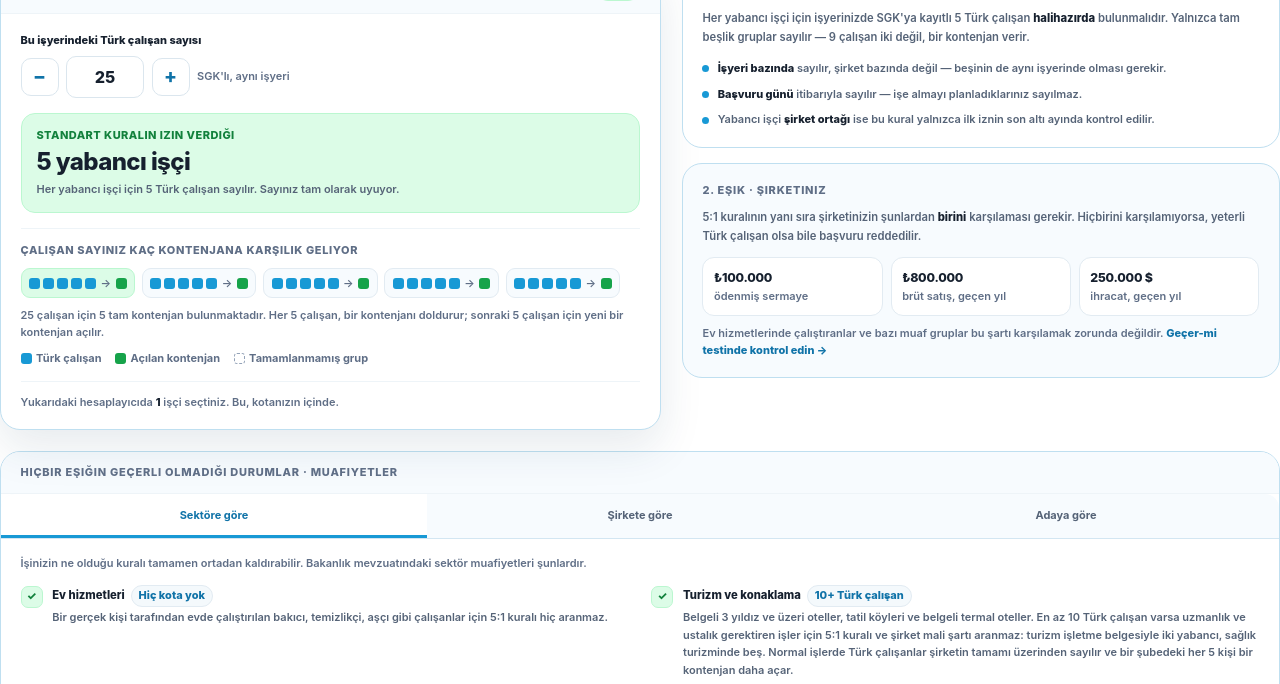
Test: the section bodies (real TR bundle; every island shows its server fallback) › Quota: both Gate 1 fallbacks at 25 staff (calc.558), the exemptions tabs with the sys badges
Check: the text with test id "quota-allowed" reads "5 yabancı işçi", box [36,147,190,176]
Check: the text with test id "quota-viz-note" shows "25 çalışan için 5 tam kontenjan bulunmaktadır. Her 5 çalışan, bir kontenjanı doldurur; sonraki 5 çalışan için yeni bir kontenjan açılır.", box [20,308,624,339]
What coordinates should you click on to do the following:
click the tab "Şirkete göre"
I would click on:
 (640, 516)
Its box is [427,494,853,538].
(page scrolled)
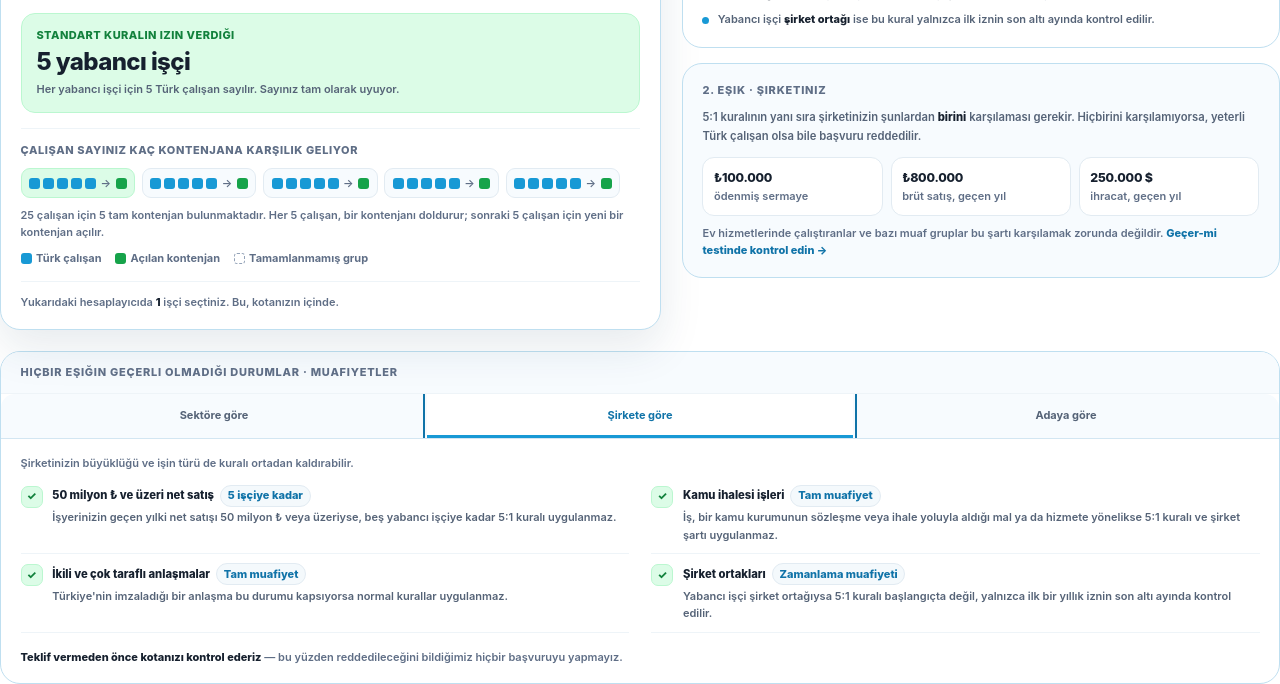
Check: the panel shows "Tam muafiyet", box [798,488,873,502]
